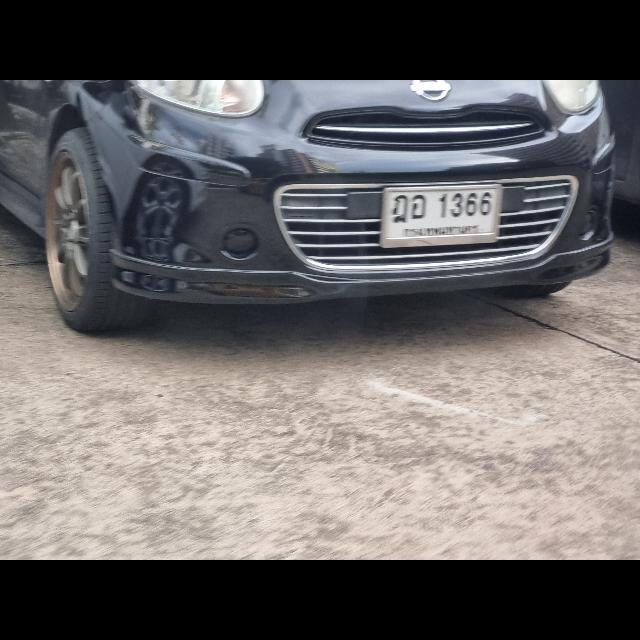licenseplate: (381, 186, 501, 248)
